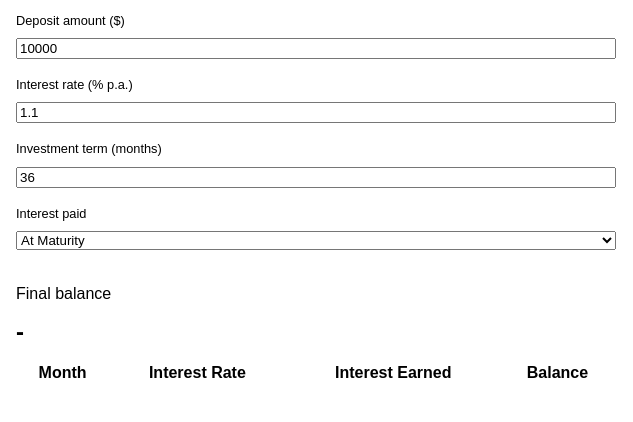
Scenario: TermDepositCalculator › interest rate percent field › shows error message when interest rate is empty
The width and height of the screenshot is (633, 422).
Clear the number field labelled "Interest rate (% p.a.)" at (316,113), box [16,102,616,123]
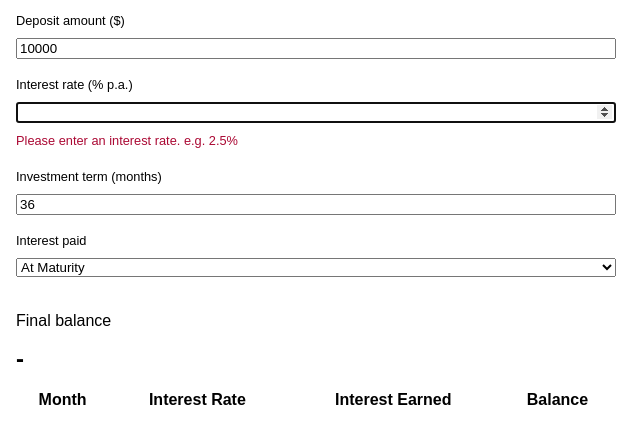
Now the text "Please enter an interest rate. e.g. 2.5%" is shown, box [16,133,238,148]
